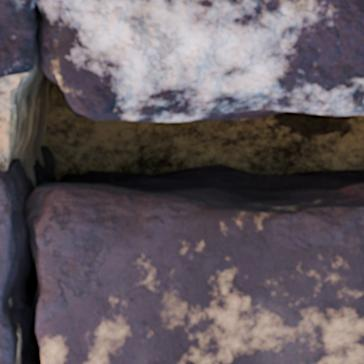broken_brick: (30, 186, 363, 363), (37, 0, 363, 120), (0, 0, 32, 78), (0, 170, 17, 296), (0, 309, 10, 363)
crack: (0, 0, 363, 363)
